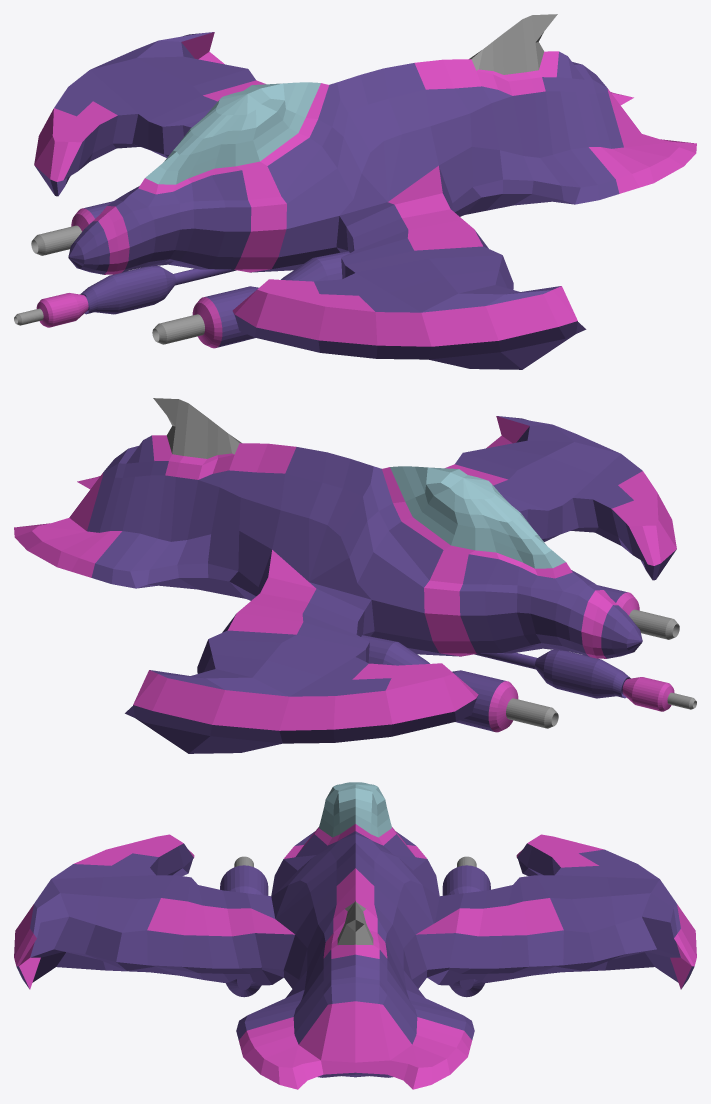
The model's file is Albatros.fbx.
3 views of the same model, one above another, from view 1: azimuth 30°, elevation 25°; view 2: azimuth 150°, elevation 25°; view 3: azimuth 270°, elevation 25° (orthographic). The views are drawn at different scales.
Visible parts, largest first — view 1: Nave, Canons; view 2: Nave, Canons; view 3: Nave, Canons.
Part boxes in pixels (x1,y1,x2,y2): Nave: (34,14,696,369); Canons: (14,201,349,348); Nave: (14,398,676,753); Canons: (361,585,696,732); Nave: (14,782,696,1089); Canons: (220,856,490,997).
Bounding box in the file's own units: 2.11 × 0.617 × 2.09.
